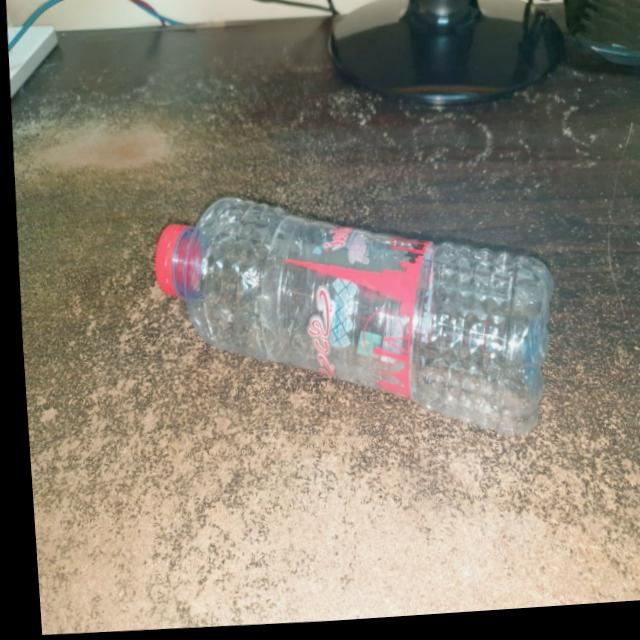anorganik: (143, 172, 582, 466)
